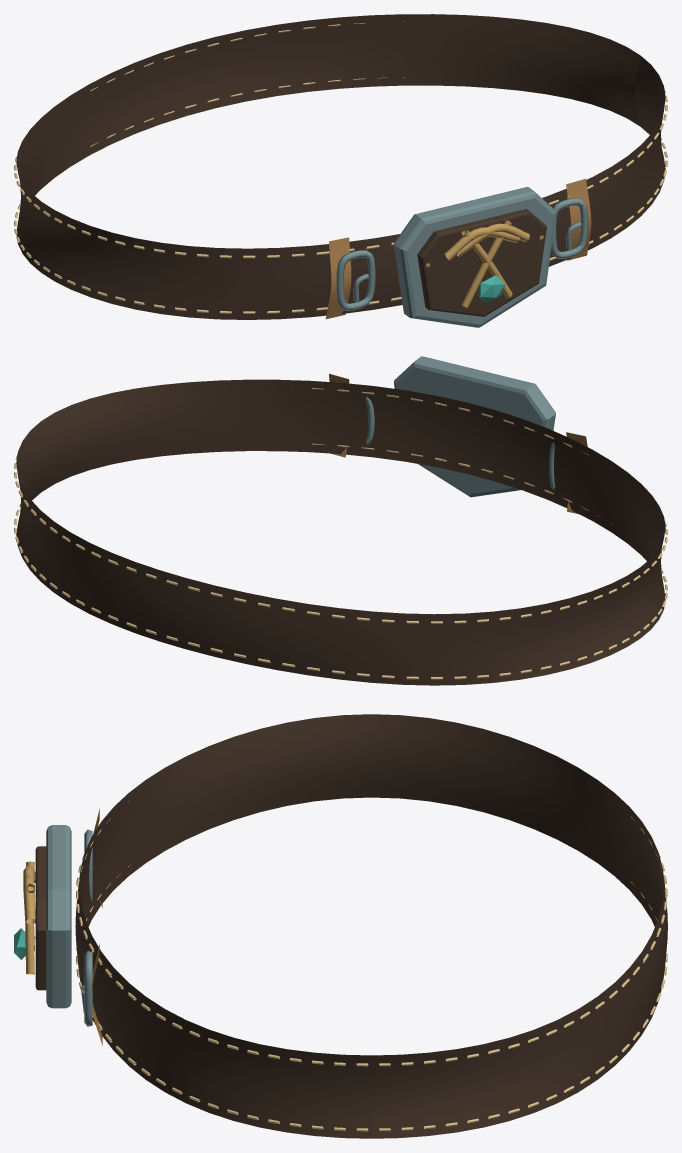
File: miners_buckle.glb
3 renders of one model, top to bottom at view 1: azimuth 30°, elevation 25°; view 2: azimuth 150°, elevation 25°; view 3: azimuth 270°, elevation 25°, orthographic. The views are drawn at different scales.
Visible parts, largest first — view 1: miners_buckle-dark, miners_buckle-iron, miners_buckle-stitch, miners_buckle-brass, miners_buckle-trim, miners_buckle-teal; view 2: miners_buckle-dark, miners_buckle-iron, miners_buckle-stitch; view 3: miners_buckle-dark, miners_buckle-iron, miners_buckle-stitch, miners_buckle-brass.
Boxes of the visible parts, x1=… form: miners_buckle-dark: x1=16, y1=14, x2=665, y2=319; miners_buckle-iron: x1=336, y1=187, x2=588, y2=327; miners_buckle-stitch: x1=14, y1=21, x2=667, y2=313; miners_buckle-brass: x1=426, y1=219, x2=543, y2=307; miners_buckle-trim: x1=325, y1=178, x2=591, y2=319; miners_buckle-teal: x1=477, y1=275, x2=505, y2=302; miners_buckle-dark: x1=16, y1=379, x2=665, y2=685; miners_buckle-iron: x1=365, y1=356, x2=555, y2=497; miners_buckle-stitch: x1=14, y1=387, x2=667, y2=679; miners_buckle-dark: x1=35, y1=714, x2=667, y2=1138; miners_buckle-iron: x1=46, y1=825, x2=92, y2=1026; miners_buckle-stitch: x1=76, y1=801, x2=667, y2=1131; miners_buckle-brass: x1=23, y1=861, x2=35, y2=974.
Size of the model in its own units: 0.839 by 0.1634 by 0.6755.
